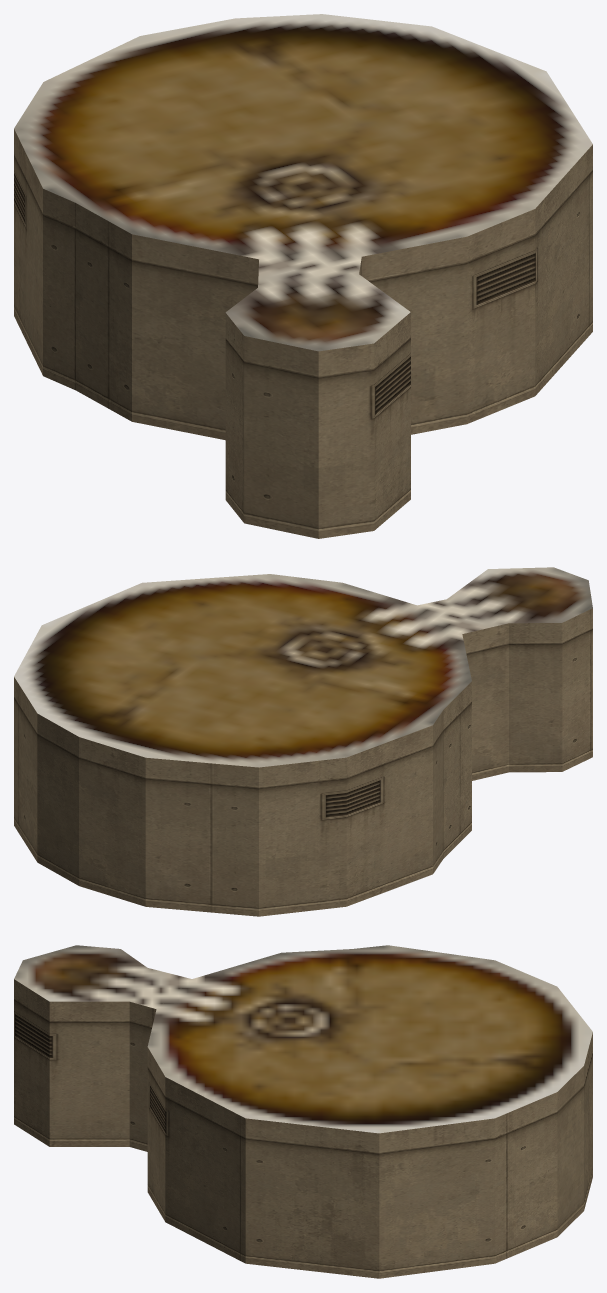
Rendered from building_single_medium_1.glb.
3 views of the same model, one above another, from view 1: azimuth 30°, elevation 25°; view 2: azimuth 150°, elevation 25°; view 3: azimuth 270°, elevation 25° (orthographic). The views are drawn at different scales.
Visible parts, largest first — view 1: buildings/saxarba/building_single/building_single_medium_1; view 2: buildings/saxarba/building_single/building_single_medium_1; view 3: buildings/saxarba/building_single/building_single_medium_1.
Boxes of the visible parts, bbox=[...] form: buildings/saxarba/building_single/building_single_medium_1: bbox=[14, 14, 592, 538]; buildings/saxarba/building_single/building_single_medium_1: bbox=[14, 567, 592, 916]; buildings/saxarba/building_single/building_single_medium_1: bbox=[14, 945, 592, 1278].
Bounding box in the file's own units: 50 × 18 × 65.
